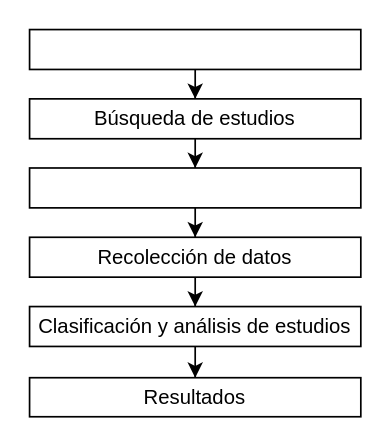
The diagram is 390 pixels wide and 448 high, and some of its shapes have lost their labels. Each missing label, with the centre of its shape:
Análisis de calidad: (x=194, y=187)
Planeación: (x=194, y=48)
